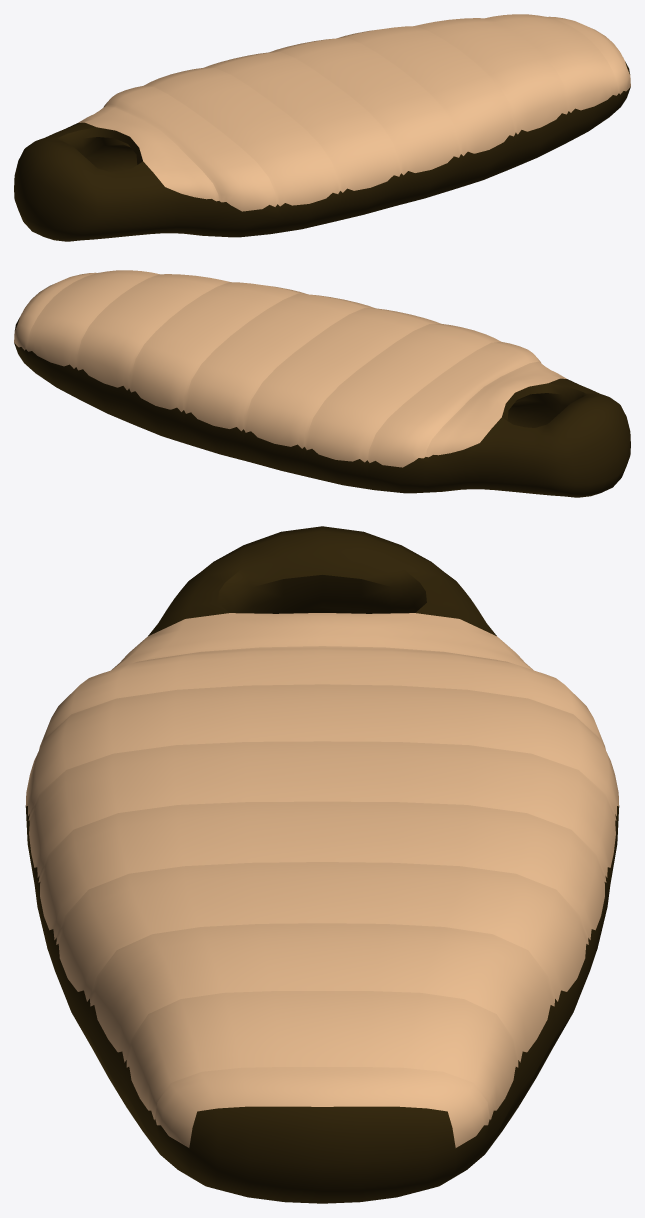
The model's file is Sleeping Bag.fbx.
3 views of the same model, one above another, from view 1: azimuth 30°, elevation 25°; view 2: azimuth 150°, elevation 25°; view 3: azimuth 270°, elevation 25° (orthographic). The views are drawn at different scales.
Visible parts, largest first — view 1: Sleeping Bag; view 2: Sleeping Bag; view 3: Sleeping Bag.
Part boxes in pixels (x1=…): Sleeping Bag: x1=14, y1=14, x2=630, y2=241; Sleeping Bag: x1=14, y1=270, x2=630, y2=497; Sleeping Bag: x1=25, y1=526, x2=619, y2=1203.
Size of the model in its own units: 405 by 177 by 62.89.
